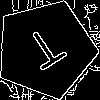T: (20, 24, 74, 79)
